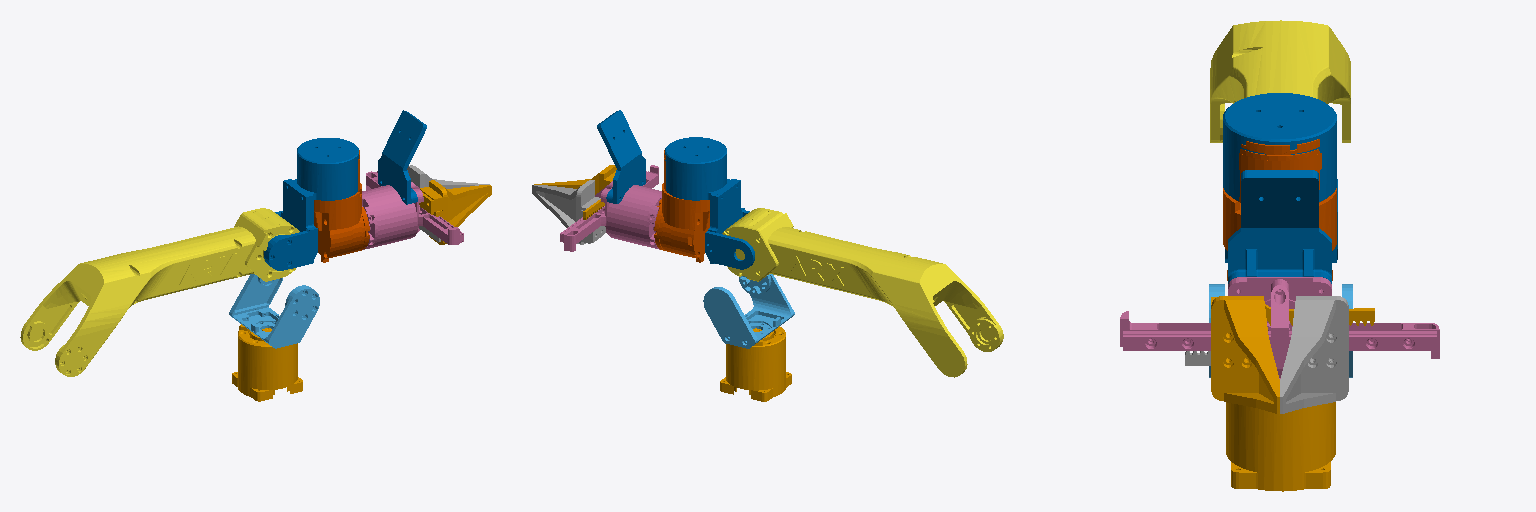
The robot description file, URDF, robot "x5":
<?xml version="1.0" ?>
<!-- =================================================================================== -->
<!-- |    This document was autogenerated by xacro from robot.xacro                    | -->
<!-- |    EDITING THIS FILE BY HAND IS NOT RECOMMENDED                                 | -->
<!-- =================================================================================== -->
<robot name="x5">
  <link name="x5_base_link">
    <inertial>
      <origin xyz="-3.0001E-05 3.0589E-05 0.027324"/>
      <mass value="0.43995"/>
      <inertia ixx="0.00017" ixy="0.00000" ixz="0.00000" iyy="0.00017" iyz="0.00000" izz="0.00016"/>
    </inertial>
    <visual>
      <geometry>
        <mesh filename="package://arx5_description/meshes/x5/base_link.obj"/>
      </geometry>
    </visual>
    <collision>
      <geometry>
        <mesh filename="package://arx5_description/meshes/x5/base_link.obj"/>
      </geometry>
    </collision>
  </link>
  <link name="x5_link1">
    <inertial>
      <origin xyz="0.0054231 -0.0080289 0.017086"/>
      <mass value="0.066982"/>
      <inertia ixx="0.00008" ixy="0.00000" ixz="0.00001" iyy="0.00003" iyz="0.00000" izz="0.00008"/>
    </inertial>
    <visual>
      <geometry>
        <mesh filename="package://arx5_description/meshes/x5/link1.obj"/>
      </geometry>
    </visual>
    <collision>
      <geometry>
        <mesh filename="package://arx5_description/meshes/x5/link1.obj"/>
      </geometry>
    </collision>
  </link>
  <joint name="x5_joint1" type="revolute">
    <origin xyz="0 0 0.0605"/>
    <parent link="x5_base_link"/>
    <child link="x5_link1"/>
    <axis xyz="0 0 1"/>
    <limit effort="100" lower="-2.87" upper="3.14" velocity="5"/>
  </joint>
  <link name="x5_link2">
    <inertial>
      <origin xyz="-0.13237 0.0020852 0.00010549"/>
      <mass value="1.0795"/>
      <inertia ixx="0.00051" ixy="0.00001" ixz="-0.00004" iyy="0.01599" iyz="0.00000" izz="0.01605"/>
    </inertial>
    <visual>
      <geometry>
        <mesh filename="package://arx5_description/meshes/x5/link2.obj"/>
      </geometry>
    </visual>
    <collision>
      <geometry>
        <mesh filename="package://arx5_description/meshes/x5/link2.obj"/>
      </geometry>
    </collision>
  </link>
  <joint name="x5_joint2" type="revolute">
    <origin xyz="0.02 0 0.04"/>
    <parent link="x5_link1"/>
    <child link="x5_link2"/>
    <axis xyz="0 1 0"/>
    <limit effort="100" lower="0" upper="3.66" velocity="5"/>
  </joint>
  <link name="x5_link3">
    <inertial>
      <origin xyz="0.18531 0.00068376 -0.051638"/>
      <mass value="0.54534"/>
      <inertia ixx="0.00036" ixy="-0.00003" ixz="-0.00039" iyy="0.00423" iyz="0.00001" izz="0.00420"/>
    </inertial>
    <visual>
      <geometry>
        <mesh filename="package://arx5_description/meshes/x5/link3.obj"/>
      </geometry>
    </visual>
    <collision>
      <geometry>
        <mesh filename="package://arx5_description/meshes/x5/link3.obj"/>
      </geometry>
    </collision>
  </link>
  <joint name="x5_joint3" type="revolute">
    <origin rpy="3.1416 0 0" xyz="-0.264 0 0"/>
    <parent link="x5_link2"/>
    <child link="x5_link3"/>
    <axis xyz="0 1 0"/>
    <limit effort="100" lower="0" upper="3.14" velocity="5"/>
  </joint>
  <link name="x5_link4">
    <inertial>
      <origin xyz="0.040231 0.0044807 -0.035335"/>
      <mass value="0.11714"/>
      <inertia ixx="0.00019" ixy="-0.00002" ixz="-0.00009" iyy="0.00023" iyz="0.00002" izz="0.00014"/>
    </inertial>
    <visual>
      <geometry>
        <mesh filename="package://arx5_description/meshes/x5/link4.obj"/>
      </geometry>
    </visual>
    <collision>
      <geometry>
        <mesh filename="package://arx5_description/meshes/x5/link4.obj"/>
      </geometry>
    </collision>
  </link>
  <joint name="x5_joint4" type="revolute">
    <origin xyz="0.245 0 -0.056"/>
    <parent link="x5_link3"/>
    <child link="x5_link4"/>
    <axis xyz="0 1 0"/>
    <limit effort="100" lower="-1.57" upper="1.57" velocity="5"/>
  </joint>
  <link name="x5_link5">
    <inertial>
      <origin xyz="0.003612 -1.5455E-05 0.055214"/>
      <mass value="0.63488"/>
      <inertia ixx="0.00083" ixy="0.00000" ixz="0.00007" iyy="0.00082" iyz="0.00000" izz="0.00026"/>
    </inertial>
    <visual>
      <origin xyz="0.0037 0 0"/>
      <geometry>
        <mesh filename="package://arx5_description/meshes/x5/link5.obj"/>
      </geometry>
    </visual>
    <collision>
      <geometry>
        <mesh filename="package://arx5_description/meshes/x5/link5.obj"/>
      </geometry>
    </collision>
  </link>
  <joint name="x5_joint5" type="revolute">
    <origin xyz="0.06775 0.0005 -0.0865"/>
    <parent link="x5_link4"/>
    <child link="x5_link5"/>
    <axis xyz="0 0 1"/>
    <limit effort="100" lower="-1.57" upper="1.57" velocity="5"/>
  </joint>
  <link name="x5_link6">
    <inertial>
      <origin xyz="0.041697 2.4368E-05 0.00014464"/>
      <mass value="0.44089"/>
      <inertia ixx="0.00038" ixy="0.00000" ixz="0.00000" iyy="0.00028" iyz="0.00000" izz="0.00050"/>
    </inertial>
    <visual>
      <geometry>
        <mesh filename="package://arx5_description/meshes/x5/link6.obj"/>
      </geometry>
    </visual>
    <collision>
      <geometry>
        <mesh filename="package://arx5_description/meshes/x5/link6.obj"/>
      </geometry>
    </collision>
  </link>
  <joint name="x5_joint6" type="revolute">
    <origin rpy="-3.1416 0 0" xyz="0.02895 0 0.0865"/>
    <parent link="x5_link5"/>
    <child link="x5_link6"/>
    <axis xyz="1 0 0"/>
    <limit effort="100" lower="-1.57" upper="1.57" velocity="5"/>
  </joint>
  <link name="x5_link7">
    <inertial>
      <origin xyz="-0.00035522 -0.007827 -0.0029883"/>
      <mass value="0.064798"/>
      <inertia ixx="0.00002" ixy="0.00000" ixz="0.00000" iyy="0.00003" iyz="0.00000" izz="0.00003"/>
    </inertial>
    <visual>
      <geometry>
        <mesh filename="package://arx5_description/meshes/x5/link7.obj"/>
      </geometry>
    </visual>
    <collision>
      <geometry>
        <mesh filename="package://arx5_description/meshes/x5/link7.obj"/>
      </geometry>
    </collision>
  </link>
  <joint name="x5_gripper_joint_left" type="prismatic">
    <origin xyz="0.08657 0.024896 -0.0002436"/>
    <parent link="x5_link6"/>
    <child link="x5_link7"/>
    <axis xyz="0 1 0"/>
    <limit effort="100" lower="0" upper="0.044" velocity="5"/>
  </joint>
  <link name="x5_link8">
    <inertial>
      <origin xyz="-0.00035522 0.0078277 0.0024201"/>
      <mass value="0.064798"/>
      <inertia ixx="0.00002" ixy="0.00000" ixz="0.00000" iyy="0.00003" iyz="0.00000" izz="0.00003"/>
    </inertial>
    <visual>
      <geometry>
        <mesh filename="package://arx5_description/meshes/x5/link8.obj"/>
      </geometry>
    </visual>
    <collision>
      <geometry>
        <mesh filename="package://arx5_description/meshes/x5/link8.obj"/>
      </geometry>
    </collision>
  </link>
  <joint name="x5_gripper_joint_right" type="prismatic">
    <origin xyz="0.08657 -0.0249 -0.00024366"/>
    <parent link="x5_link6"/>
    <child link="x5_link8"/>
    <axis xyz="0 -1 0"/>
    <limit effort="100" lower="0" upper="0.044" velocity="5"/>
    <mimic joint="x5_gripper_joint_left" multiplier="1" offset="0"/>
  </joint>
  <link name="x5_gripper_center"/>
  <joint name="x5_gripper_center_fixed" type="fixed">
    <parent link="x5_link6"/>
    <child link="x5_gripper_center"/>
    <origin xyz="0.145 0 0"/>
  </joint>
  <link name="x5_left_pad"/>
  <joint name="x5_left_pad_joint" type="fixed">
    <parent link="x5_link7"/>
    <child link="x5_left_pad"/>
    <origin xyz="0.05843 -0.0249 0"/>
  </joint>
  <link name="x5_right_pad"/>
  <joint name="x5_right_pad_joint" type="fixed">
    <parent link="x5_link8"/>
    <child link="x5_right_pad"/>
    <origin xyz="0.05843 0.0249 0"/>
  </joint>
  <link name="x5_camera_support">
    <visual>
      <geometry>
        <mesh filename="package://arx5_description/meshes/camera_stand/stand_d405.obj"/>
      </geometry>
    </visual>
  </link>
  <joint name="x5_camera_support_fixed" type="fixed">
    <parent link="x5_link6"/>
    <child link="x5_camera_support"/>
    <origin xyz="0.045 0 0.021"/>
  </joint>
  <link name="x5_camera">
    <visual>
      <geometry>
        <mesh filename="package://sensor_models/meshes/d405/d405.obj"/>
      </geometry>
    </visual>
  </link>
  <joint name="x5_camera_fixed" type="fixed">
    <origin rpy="0 0.523 0" xyz="0.0385 0 0.0475"/>
    <parent link="x5_camera_support"/>
    <child link="x5_camera"/>
  </joint>
</robot>

--- Render facts (derived) ---
The picture shows the robot from 3 angles, left to right: view 1: azimuth 30°, elevation 25°; view 2: azimuth 150°, elevation 25°; view 3: azimuth 270°, elevation 25°; orthographic projection.
Robot: x5 — 14 links, 13 joints (6 revolute, 2 prismatic, 5 fixed); root link x5_base_link; default pose: all joints at 0.
Links seen in each view (by area): view 1: x5_link3, x5_link4, x5_link1, x5_link6, x5_base_link, x5_link5, x5_camera_support, x5_link8, x5_link7; view 2: x5_link3, x5_link4, x5_link1, x5_link6, x5_base_link, x5_link5, x5_camera_support, x5_link7, x5_link8; view 3: x5_link3, x5_camera_support, x5_base_link, x5_link6, x5_link8, x5_link4, x5_link7, x5_link5, x5_link1.
Link boxes in pixels (<box>): x5_link3: <box>20,208,299,376</box>; x5_link4: <box>264,138,358,270</box>; x5_link1: <box>229,274,319,348</box>; x5_link6: <box>362,171,463,249</box>; x5_base_link: <box>232,324,302,401</box>; x5_link5: <box>314,150,369,262</box>; x5_camera_support: <box>378,110,426,204</box>; x5_link8: <box>419,180,491,244</box>; x5_link7: <box>407,165,489,242</box>; x5_link3: <box>722,208,1003,377</box>; x5_link4: <box>665,137,754,269</box>; x5_link1: <box>703,274,794,348</box>; x5_link6: <box>560,165,661,251</box>; x5_base_link: <box>720,326,791,401</box>; x5_link5: <box>654,150,709,262</box>; x5_camera_support: <box>597,110,645,203</box>; x5_link7: <box>532,180,605,244</box>; x5_link8: <box>534,165,616,219</box>; x5_link3: <box>1210,20,1350,142</box>; x5_camera_support: <box>1228,170,1331,283</box>; x5_base_link: <box>1226,402,1335,491</box>; x5_link6: <box>1120,277,1439,378</box>; x5_link8: <box>1211,296,1374,413</box>; x5_link4: <box>1223,93,1337,262</box>; x5_link7: <box>1185,296,1348,413</box>; x5_link5: <box>1223,139,1336,280</box>; x5_link1: <box>1209,284,1352,377</box>.
Size in the robot's own frame: 0.5168 by 0.174 by 0.2563 metres.
9 mesh visuals loaded from 11 distinct referenced files (9 OBJ); not drawn: 2 (reference not matched to a file when rendering).